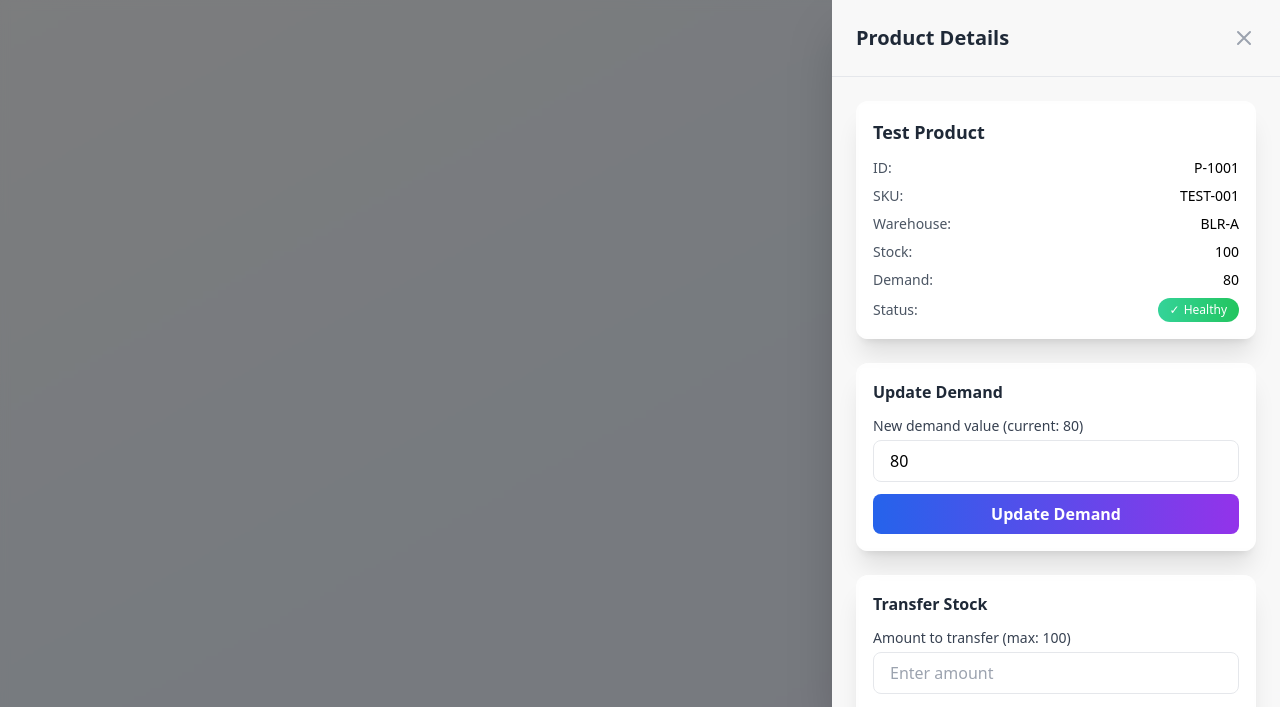
Drawer › Loading states › should show loading state during mutations
Replace the text in the number field labelled "New demand value (current: 80)" with "100" at (1056, 461), box [873,440,1239,482]
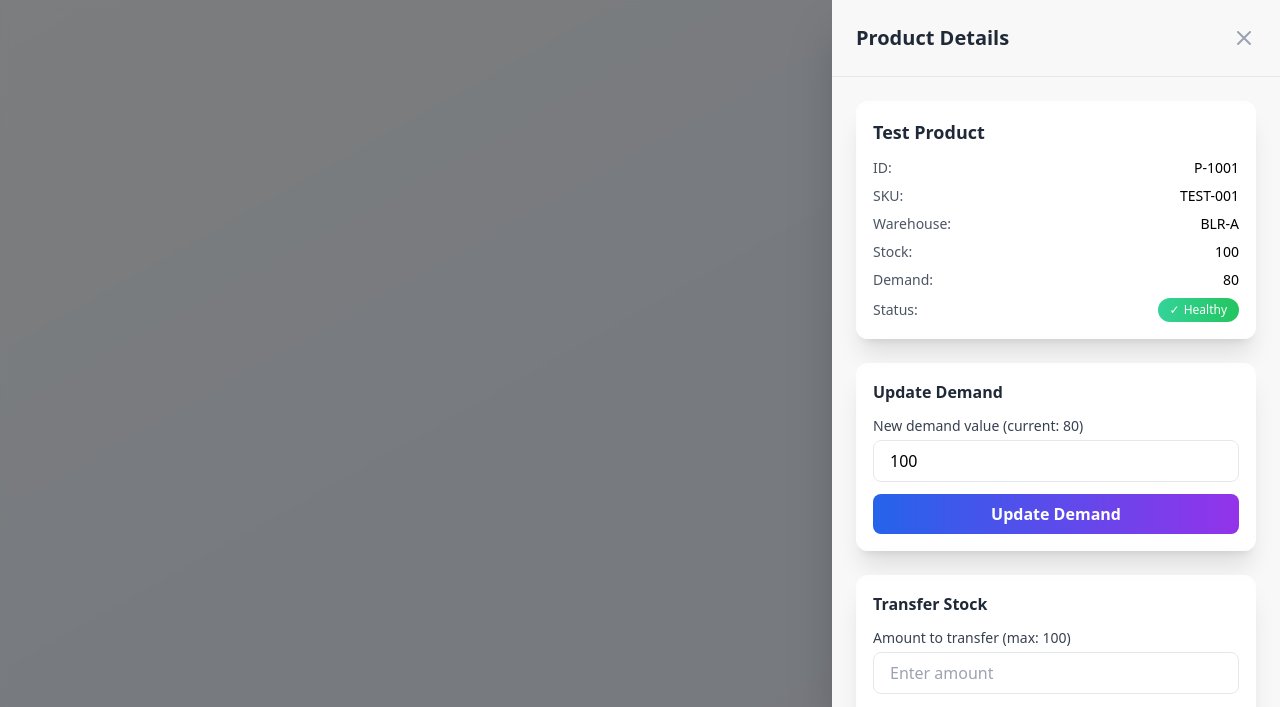
Click the button "Update Demand" at (1056, 514), box [873,494,1239,534]
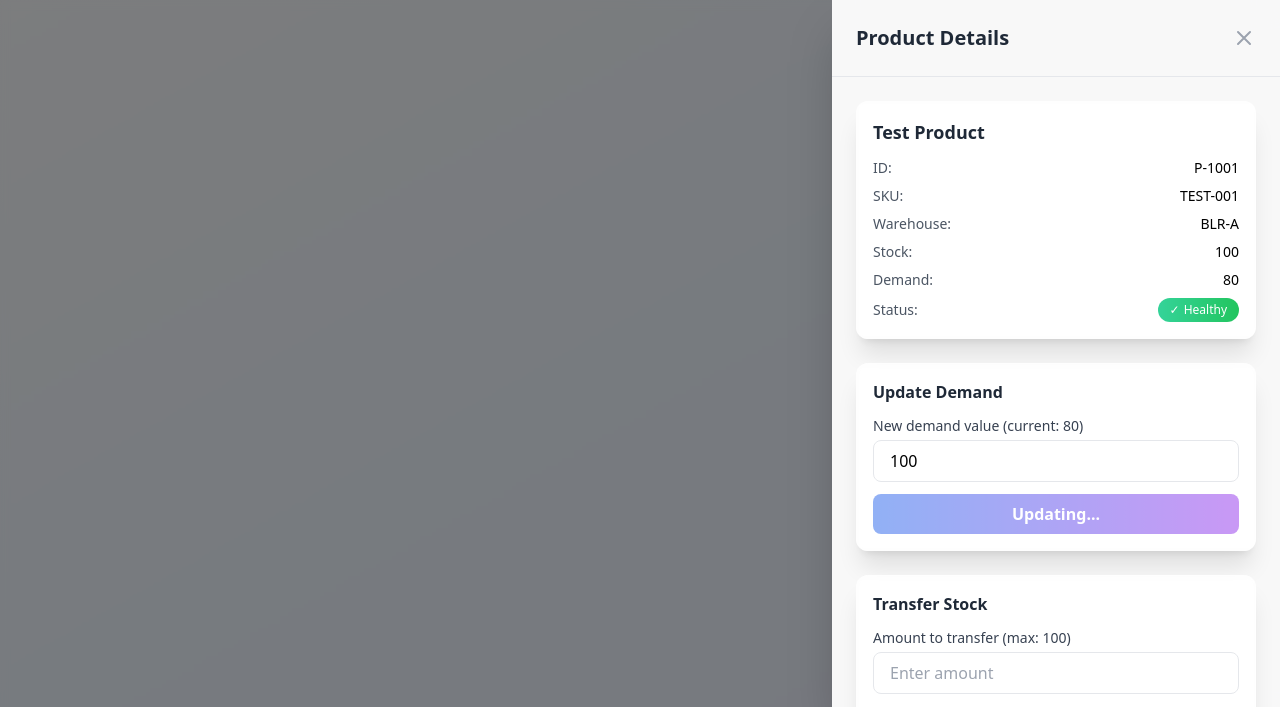
Check: the button named "update demand" is disabled, box [873,494,1239,534]
